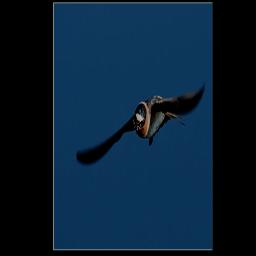Swallow: (75, 78, 204, 163)
